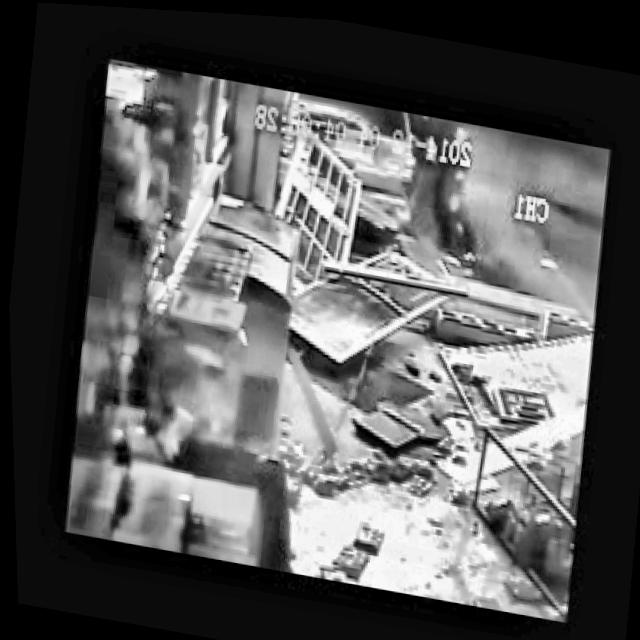burglary: (362, 102, 504, 271)
